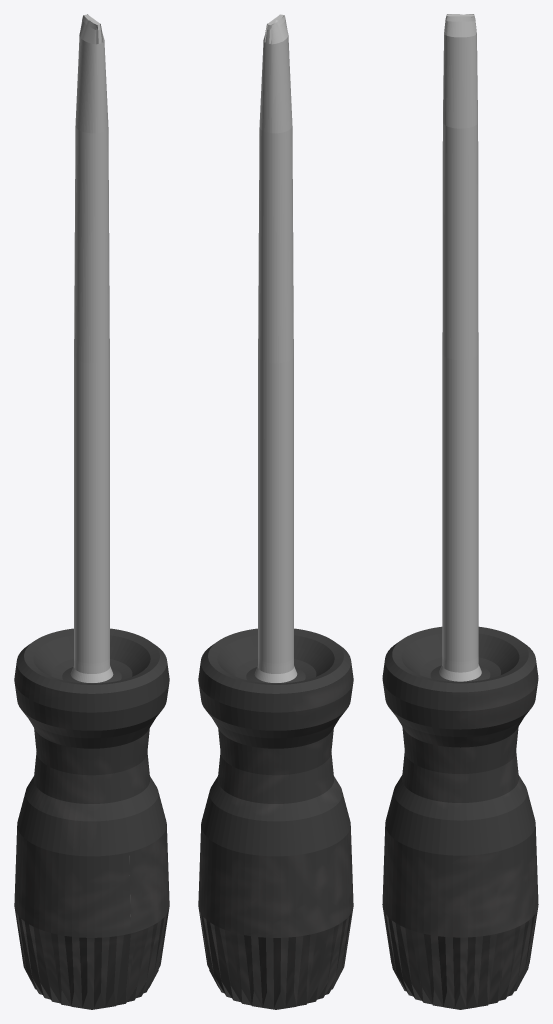
File: ScrewDriver.fbx
3 renders of one model, left to right at view 1: azimuth 30°, elevation 25°; view 2: azimuth 150°, elevation 25°; view 3: azimuth 270°, elevation 25°, orthographic.
Visible parts, largest first — view 1: ScrewDriver; view 2: ScrewDriver; view 3: ScrewDriver.
Part boxes in pixels (<box>): ScrewDriver: <box>14,14,169,1009</box>; ScrewDriver: <box>198,14,353,1009</box>; ScrewDriver: <box>382,14,538,1009</box>.
Size of the model in its own units: 0.0199 by 0.14 by 0.0199.
